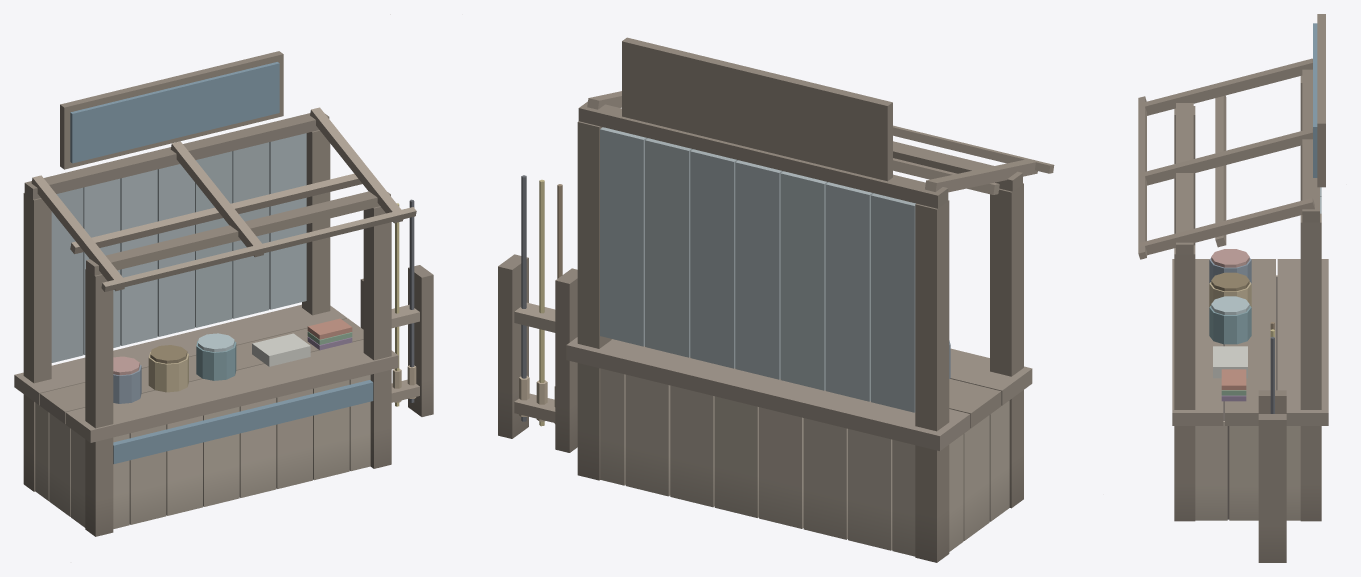
The model's file is BaitShopStand_wood.glb.
3 renders of one model, left to right at view 1: azimuth 30°, elevation 25°; view 2: azimuth 150°, elevation 25°; view 3: azimuth 270°, elevation 25°, orthographic. The views are drawn at different scales.
Parts seen in each view (by area): view 1: BaitShopStand_wood; view 2: BaitShopStand_wood; view 3: BaitShopStand_wood.
Boxes of the visible parts, left/top/right/bottom form: BaitShopStand_wood: left=14, top=14, right=433, bottom=536; BaitShopStand_wood: left=498, top=37, right=1054, bottom=562; BaitShopStand_wood: left=1138, top=14, right=1328, bottom=562.
Size of the model in its own units: 14.32 by 11.9 by 6.11.
